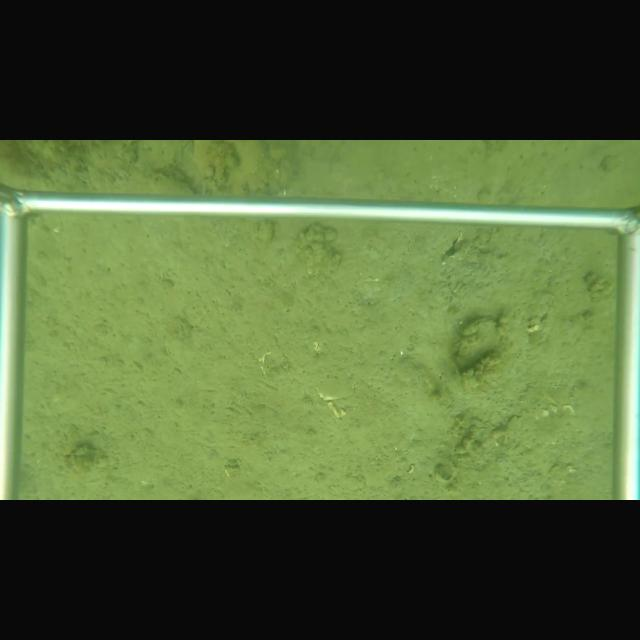Oyster-Closed: (453, 314, 502, 375)
